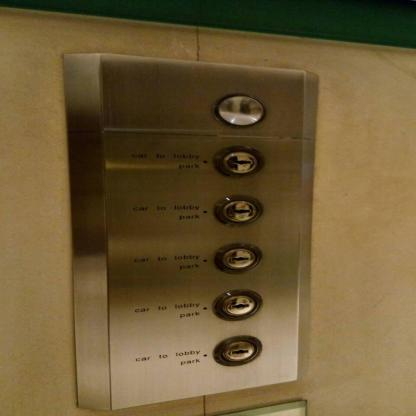empty: (212, 93, 266, 128)
keyhole: (213, 145, 265, 179), (212, 194, 265, 226), (212, 242, 264, 274), (211, 289, 263, 321), (212, 335, 262, 367)
